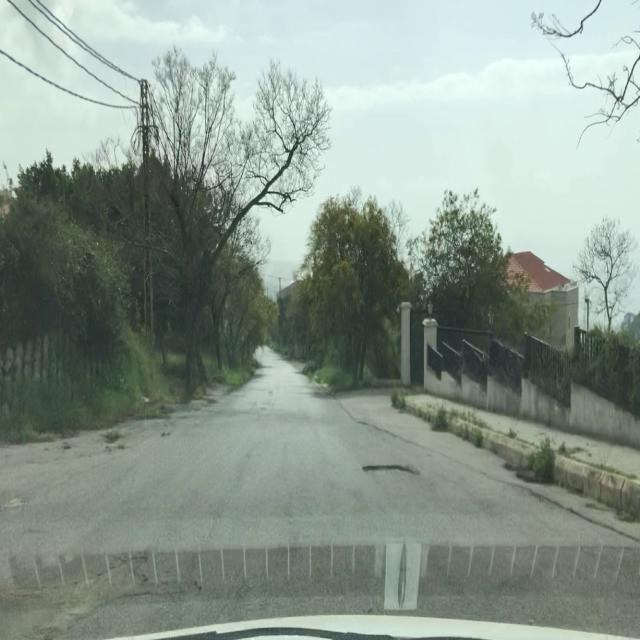Pothole: (360, 460, 423, 483)
